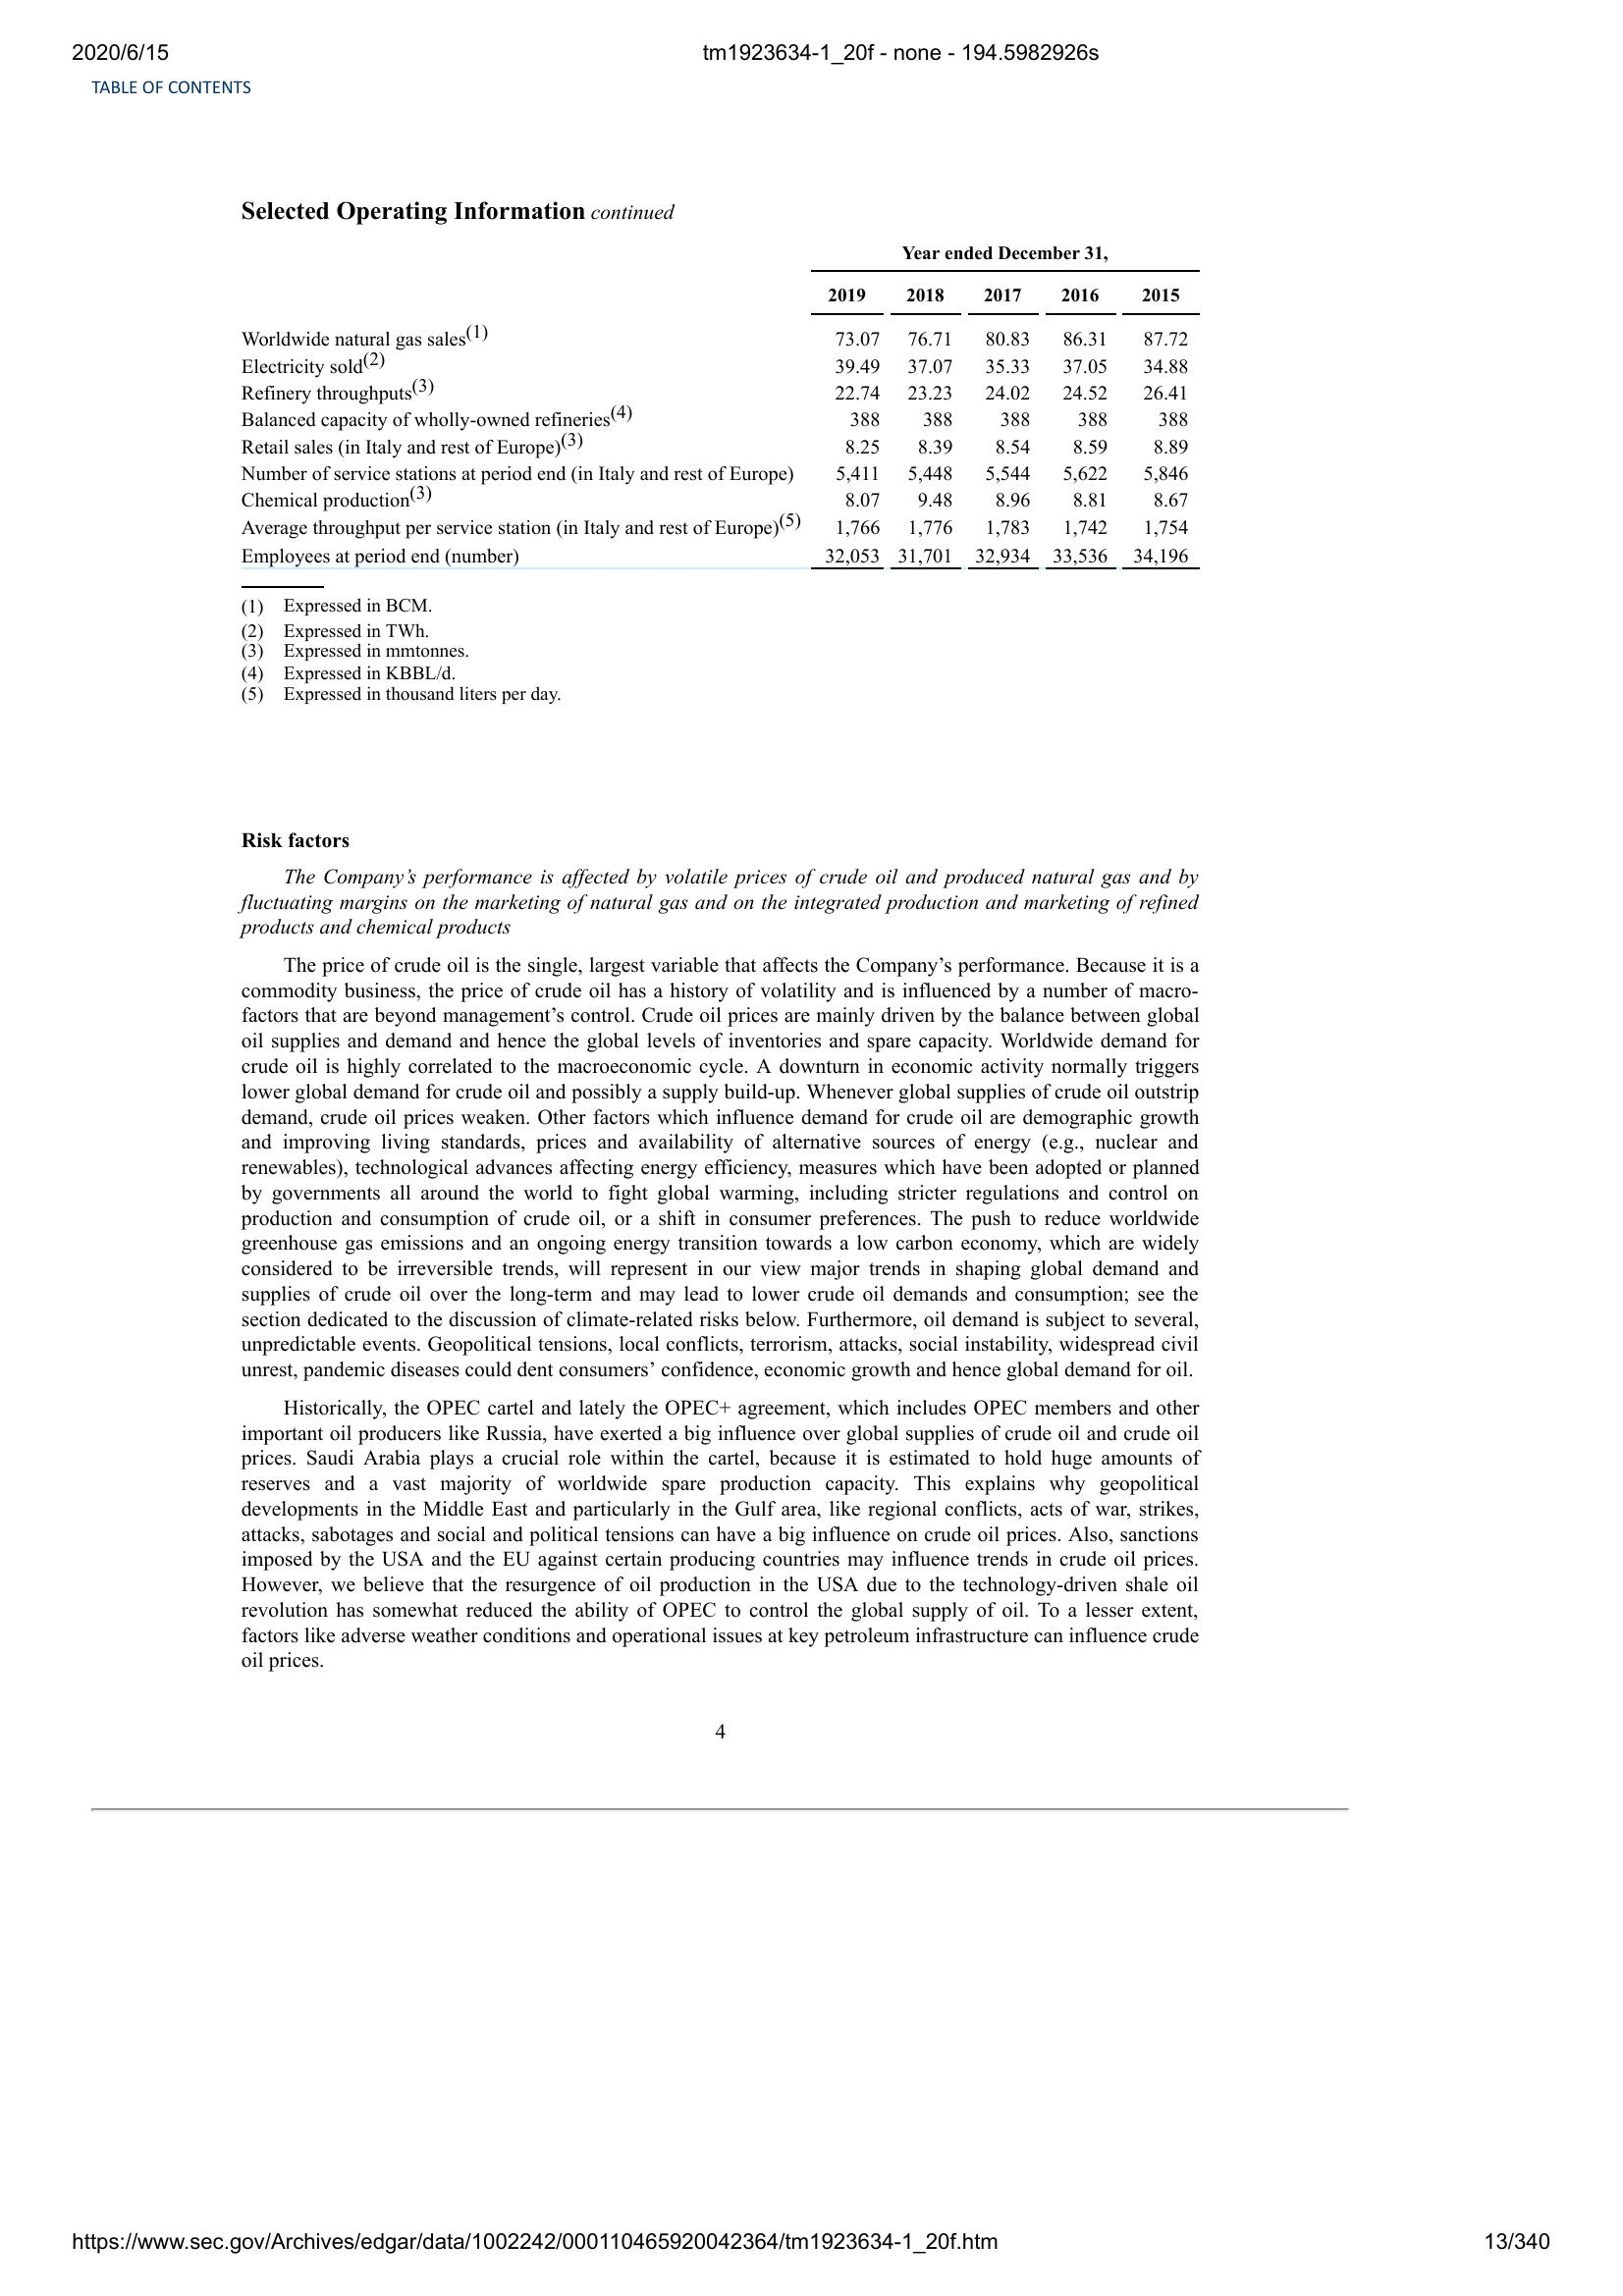table: (239, 235, 1210, 579)
